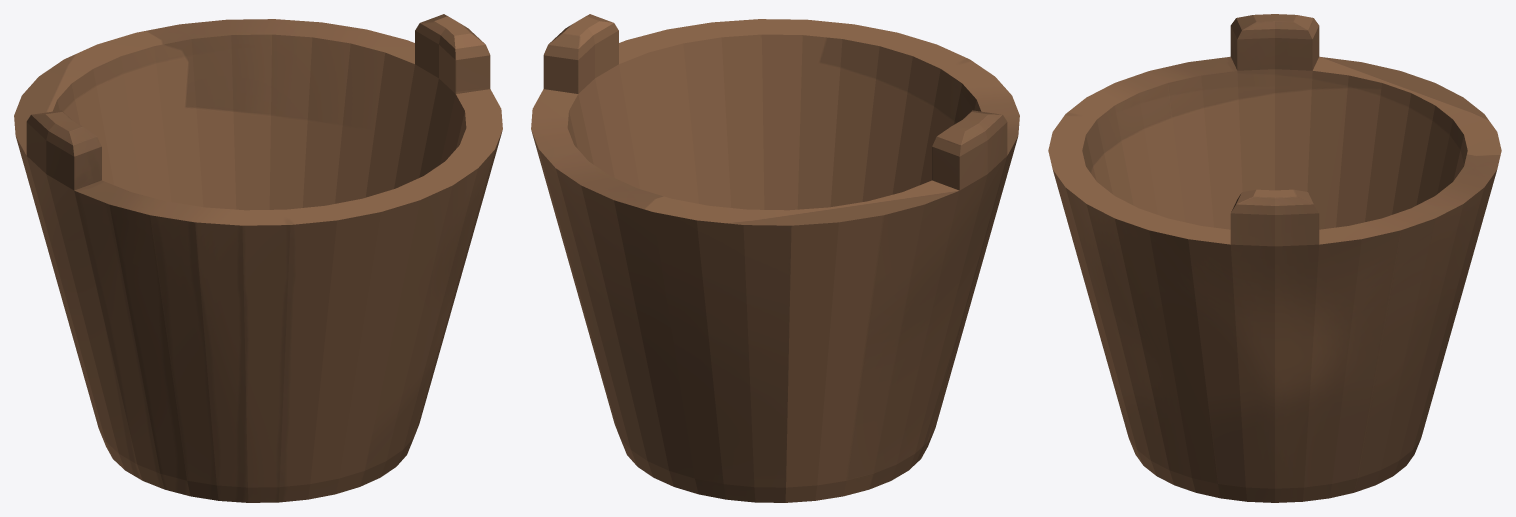
File: StoneWell_part_24.fbx
3 views of the same model, side by side, from view 1: azimuth 30°, elevation 25°; view 2: azimuth 150°, elevation 25°; view 3: azimuth 270°, elevation 25° (orthographic). The views are drawn at different scales.
Visible parts, largest first — view 1: Cylinder.007_Bucket_0.001; view 2: Cylinder.007_Bucket_0.001; view 3: Cylinder.007_Bucket_0.001.
Part boxes in pixels (x1,y1,x2,y2): Cylinder.007_Bucket_0.001: (14, 14, 502, 502); Cylinder.007_Bucket_0.001: (531, 14, 1019, 502); Cylinder.007_Bucket_0.001: (1048, 14, 1501, 502).
Bounding box in the file's own units: 240 × 197 × 240.
